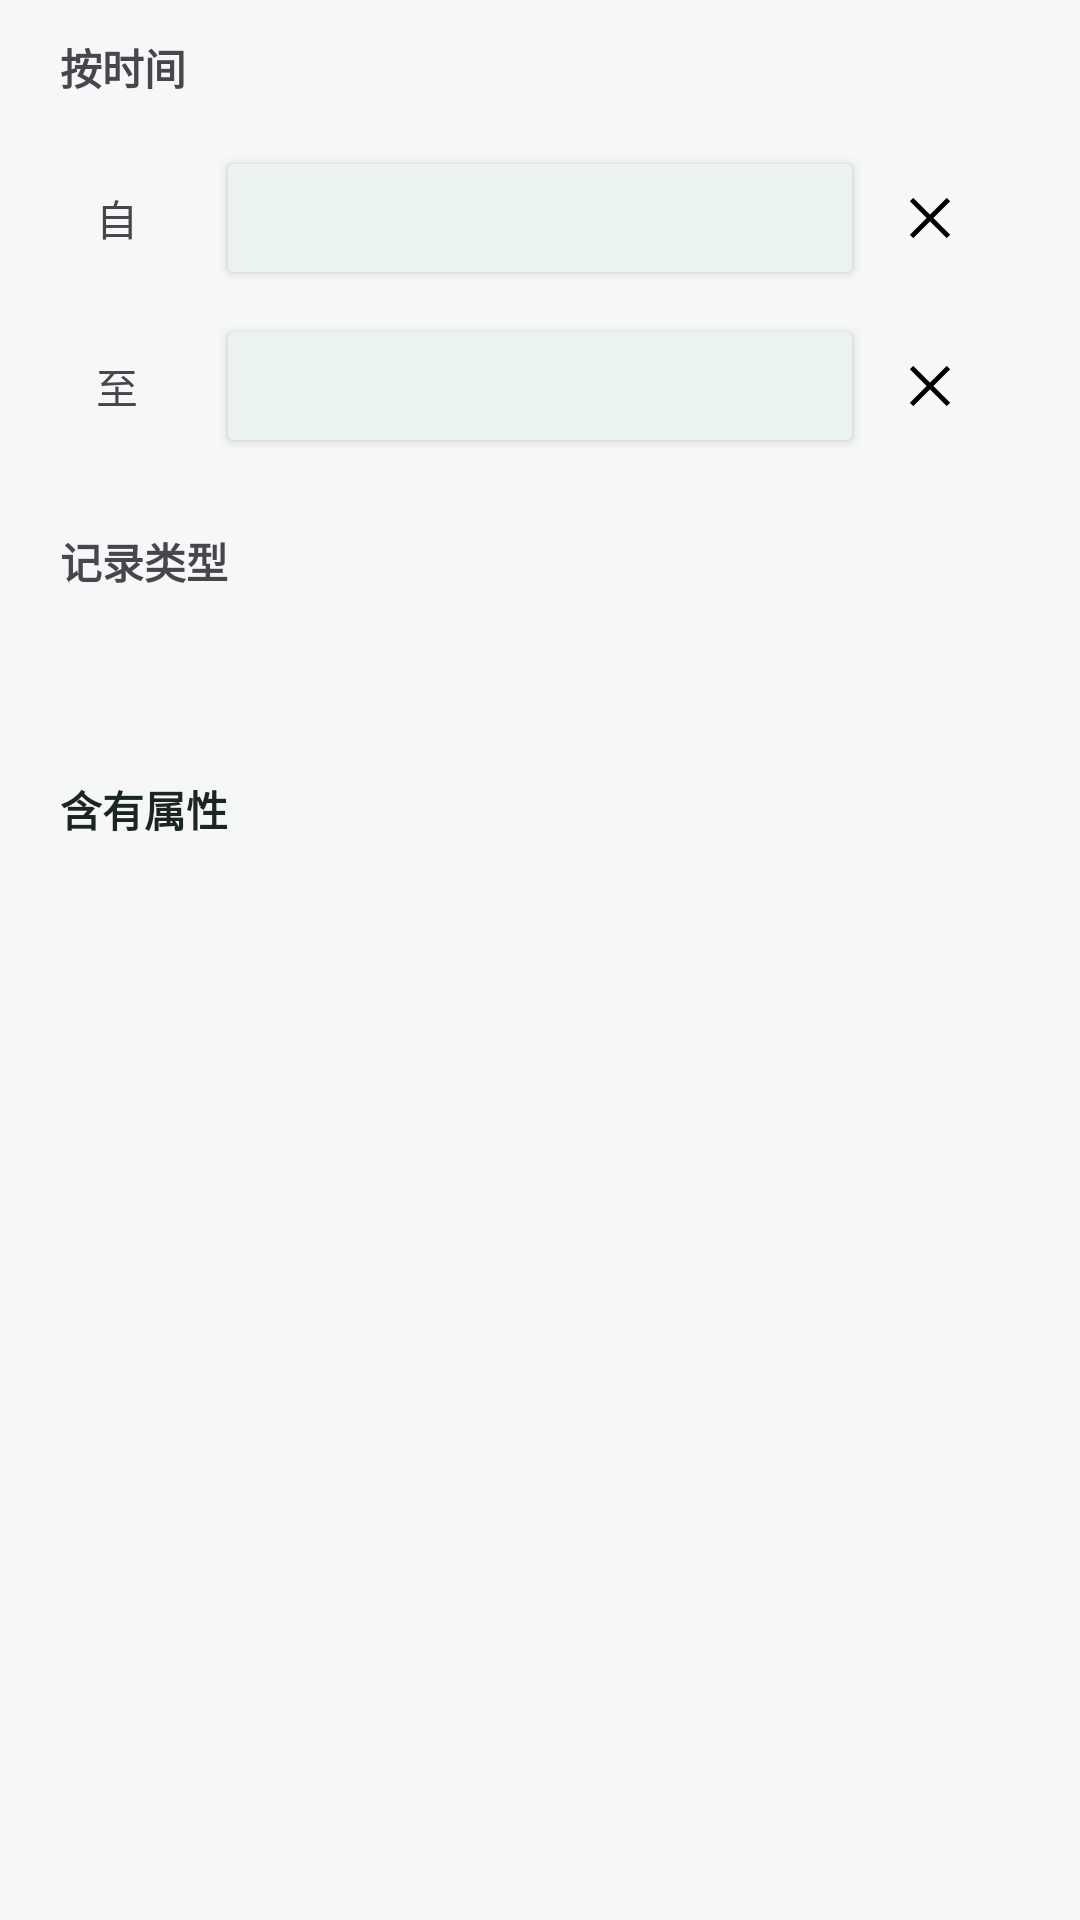

Named icons in this screenshot (1080 x 1920) and their bounding boxes, (x1, y1, x2, y2):
清除: (910, 198, 950, 238), (910, 366, 950, 406)
